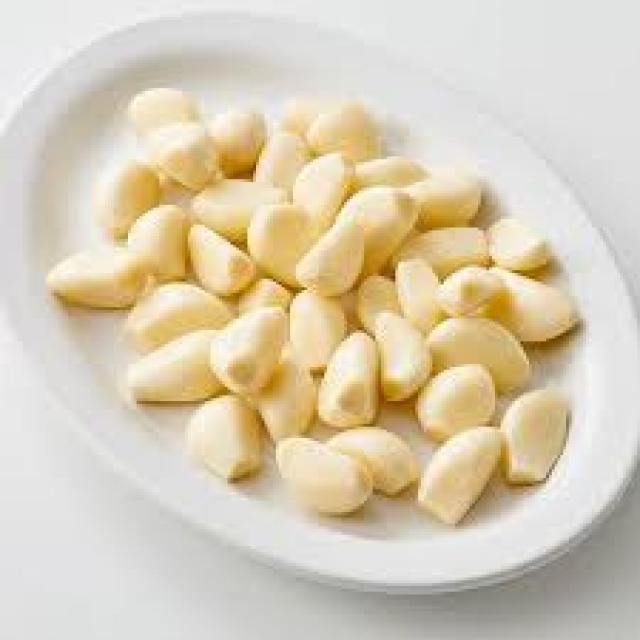garlic: (140, 114, 452, 438)
